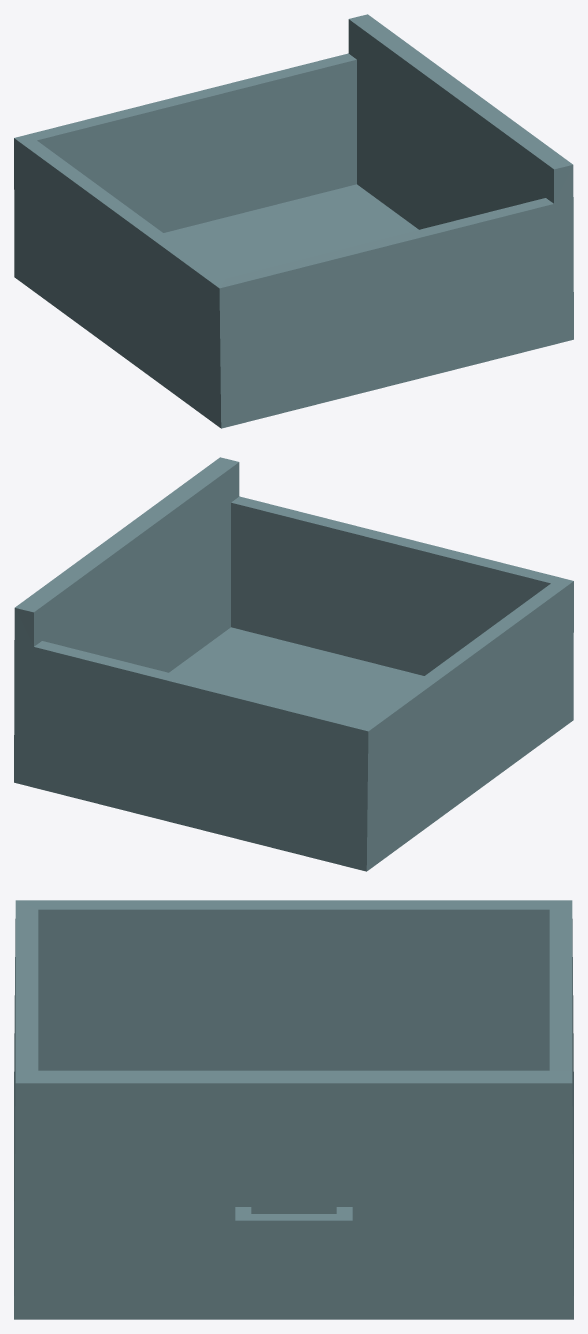
File: Cabinet_Small_Part.001.fbx
3 views of the same model, one above another, from view 1: azimuth 30°, elevation 25°; view 2: azimuth 150°, elevation 25°; view 3: azimuth 270°, elevation 25° (orthographic). The views are drawn at different scales.
Visible parts, largest first — view 1: Cabinet_Small_Part.001; view 2: Cabinet_Small_Part.001; view 3: Cabinet_Small_Part.001.
Boxes of the visible parts, x1,y1,x2,y2 form: Cabinet_Small_Part.001: (14, 14, 573, 428); Cabinet_Small_Part.001: (14, 457, 573, 871); Cabinet_Small_Part.001: (14, 900, 573, 1319).
Size of the model in its own units: 52.72 by 23.85 by 50.39.
